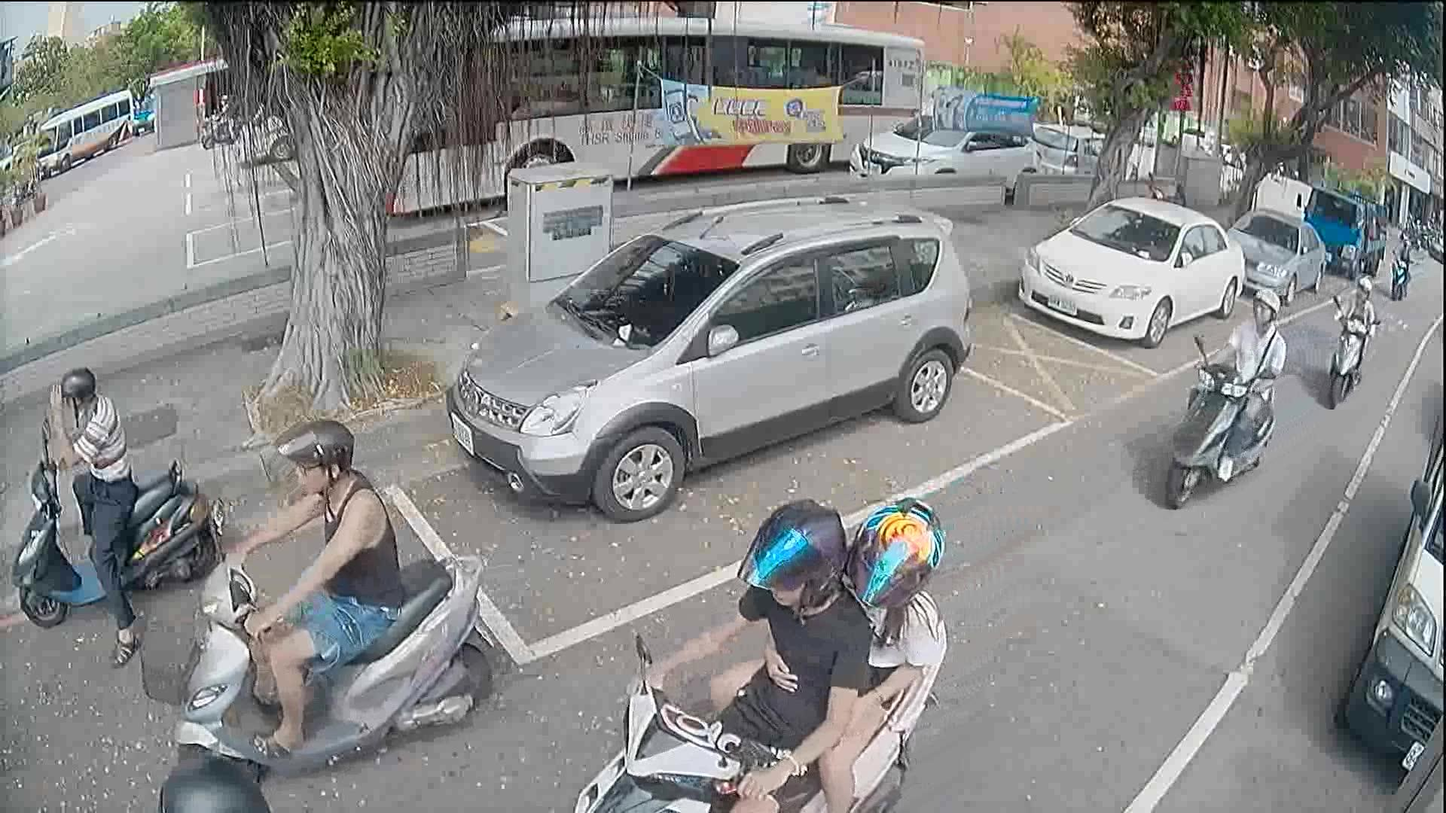person: (702, 497, 950, 810), (619, 507, 870, 812), (214, 423, 403, 769), (42, 365, 145, 665), (1182, 280, 1292, 486), (154, 750, 276, 811), (1328, 279, 1378, 392), (215, 94, 228, 128), (1396, 236, 1411, 265)
